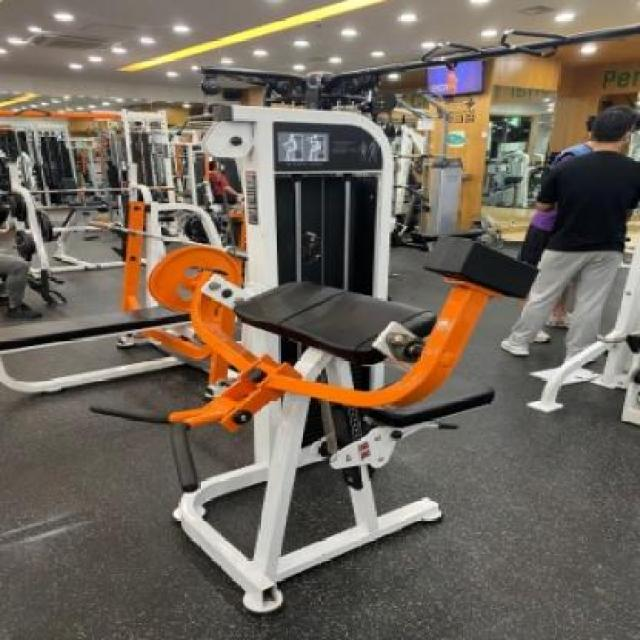arm curl machine: (91, 243, 494, 614)
